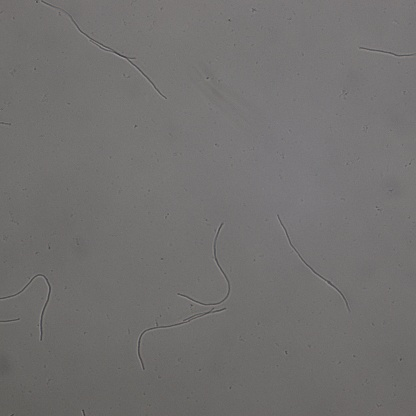Sensitive: (278, 214, 349, 312), (40, 1, 135, 61), (137, 309, 226, 370), (174, 223, 231, 305), (91, 42, 167, 100), (1, 273, 50, 342), (360, 46, 416, 60)
